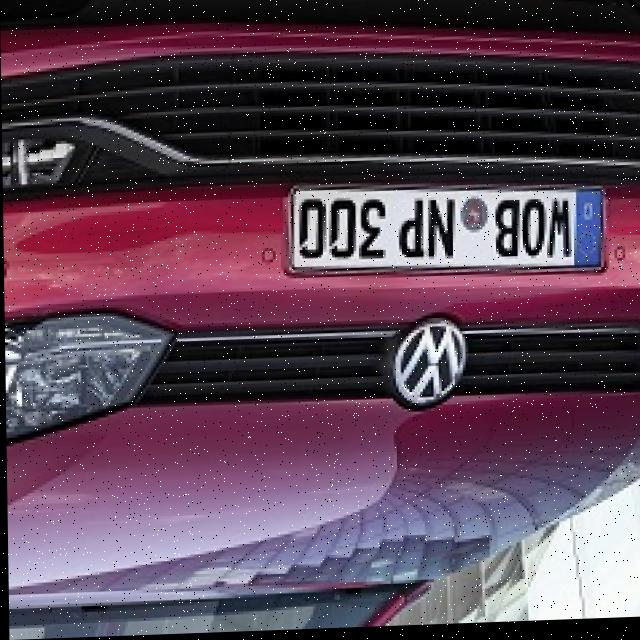plate: (285, 182, 608, 289)
